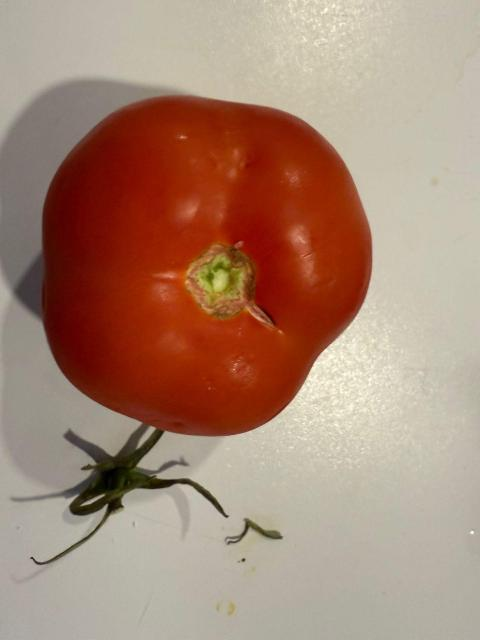Organik: (37, 89, 377, 444), (27, 421, 241, 592), (225, 511, 299, 568)
